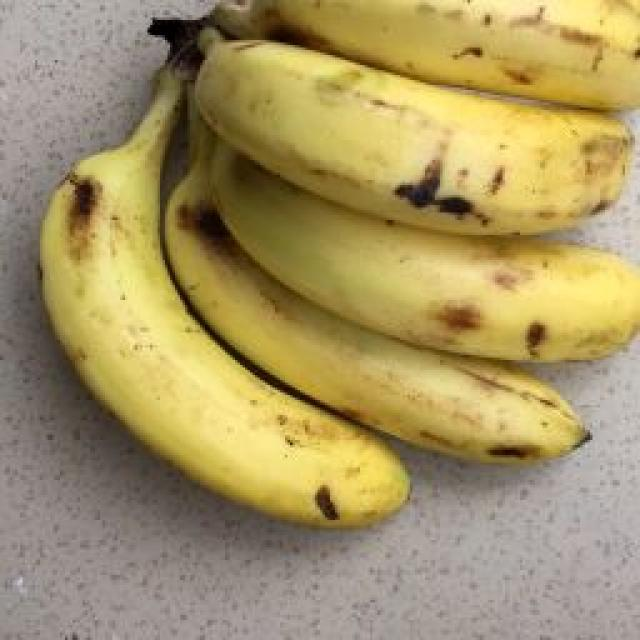banana: (136, 52, 544, 578)
